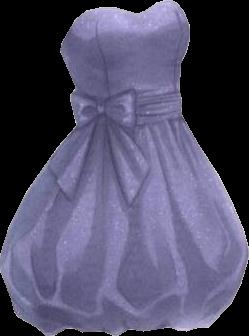Bodice: (60, 0, 189, 119)
Hemline: (16, 315, 208, 335)
Neckline: (58, 0, 181, 52)
Skirt: (0, 112, 247, 335)
Waistline: (80, 109, 181, 120)
